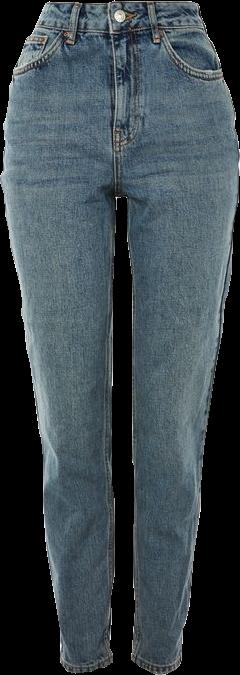Hemline: (129, 652, 183, 673), (59, 653, 112, 674)
Pantleg: (107, 0, 238, 672), (0, 2, 116, 672)
Waistline: (34, 22, 206, 36), (42, 0, 199, 10)
